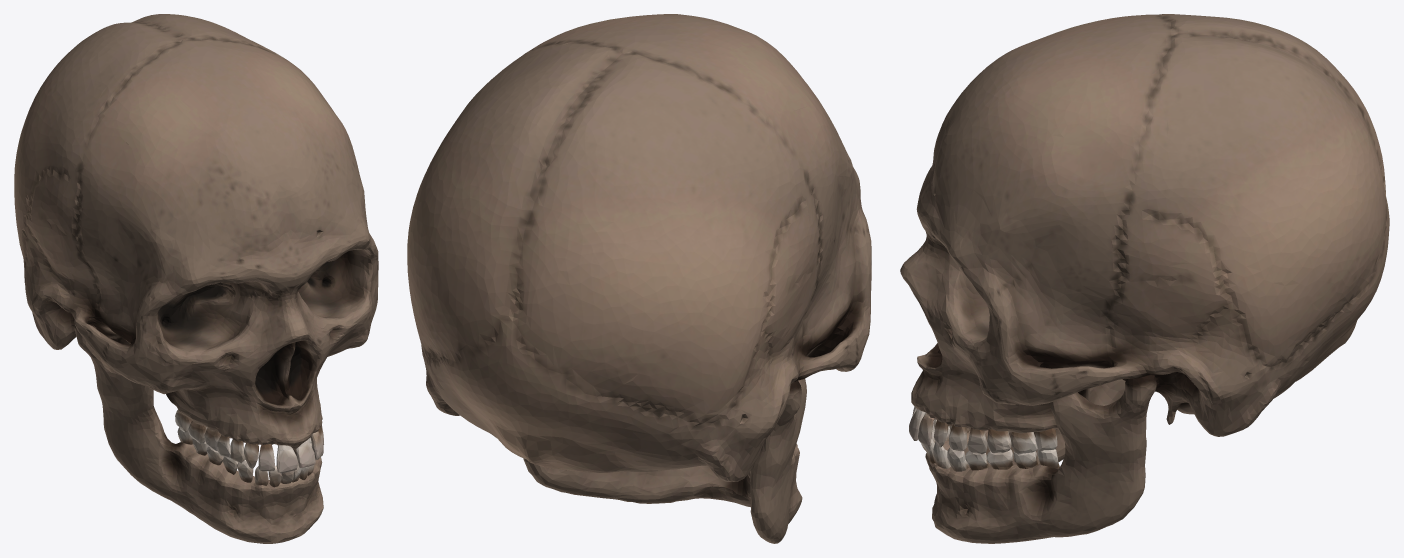
The model's file is skull.obj.
3 renders of one model, left to right at view 1: azimuth 30°, elevation 25°; view 2: azimuth 150°, elevation 25°; view 3: azimuth 270°, elevation 25°, orthographic. The views are drawn at different scales.
Parts seen in each view (by area): view 1: craneo; view 2: craneo; view 3: craneo.
Part boxes in pixels (x1,y1,x2,y2): craneo: [14, 14, 378, 543]; craneo: [407, 14, 871, 543]; craneo: [900, 14, 1389, 543].
Bounding box in the file's own units: 0.6358 × 0.95 × 0.8508.
1 material, 1 textured.
